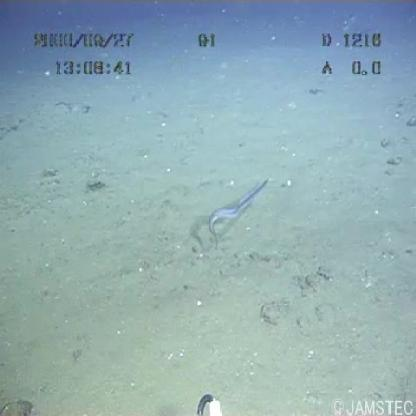Bio: (201, 167, 275, 252)
